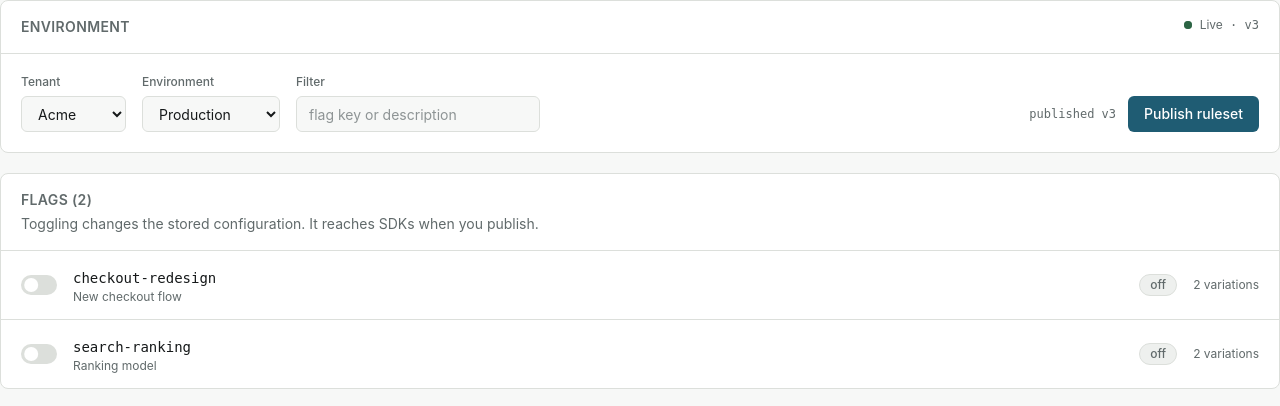
it: FlagList › filters by key and by description
Expected: the link "checkout-redesign" is shown, [73,270,216,286]
In the field named "Filter flags": {"x": 418, "y": 114} [296,96,540,132], type "ranking"
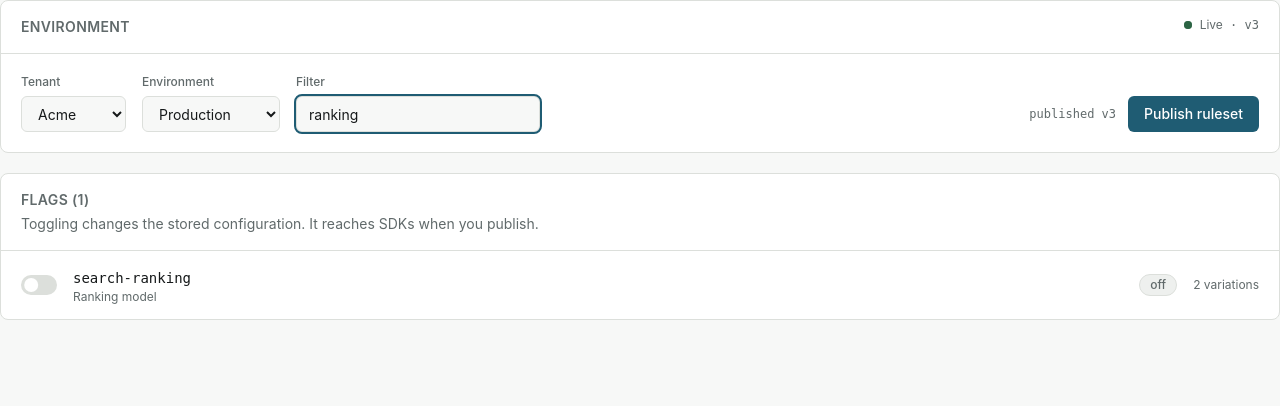
Expected: the link "search-ranking" is shown, [73,270,191,286]
Expected: the link "checkout-redesign" is gone
